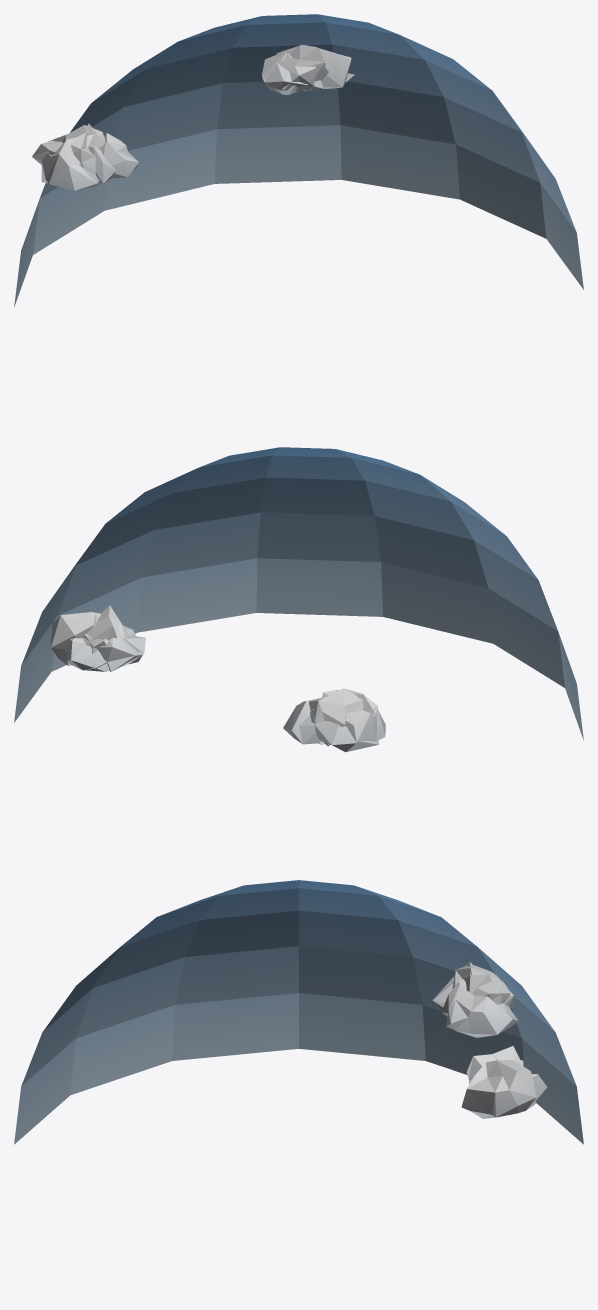
File: metropolis-sky-day-dome-01.glb
3 views of the same model, one above another, from view 1: azimuth 30°, elevation 25°; view 2: azimuth 150°, elevation 25°; view 3: azimuth 270°, elevation 25° (orthographic). The views are drawn at different scales.
Visible parts, largest first — view 1: metropolis_sky_day_dome_01; view 2: metropolis_sky_day_dome_01; view 3: metropolis_sky_day_dome_01.
Part boxes in pixels (x1=…): metropolis_sky_day_dome_01: x1=14, y1=14, x2=583, y2=307; metropolis_sky_day_dome_01: x1=14, y1=447, x2=583, y2=752; metropolis_sky_day_dome_01: x1=14, y1=880, x2=583, y2=1144.
Bounding box in the file's own units: 5.2 × 2.6 × 5.07.
